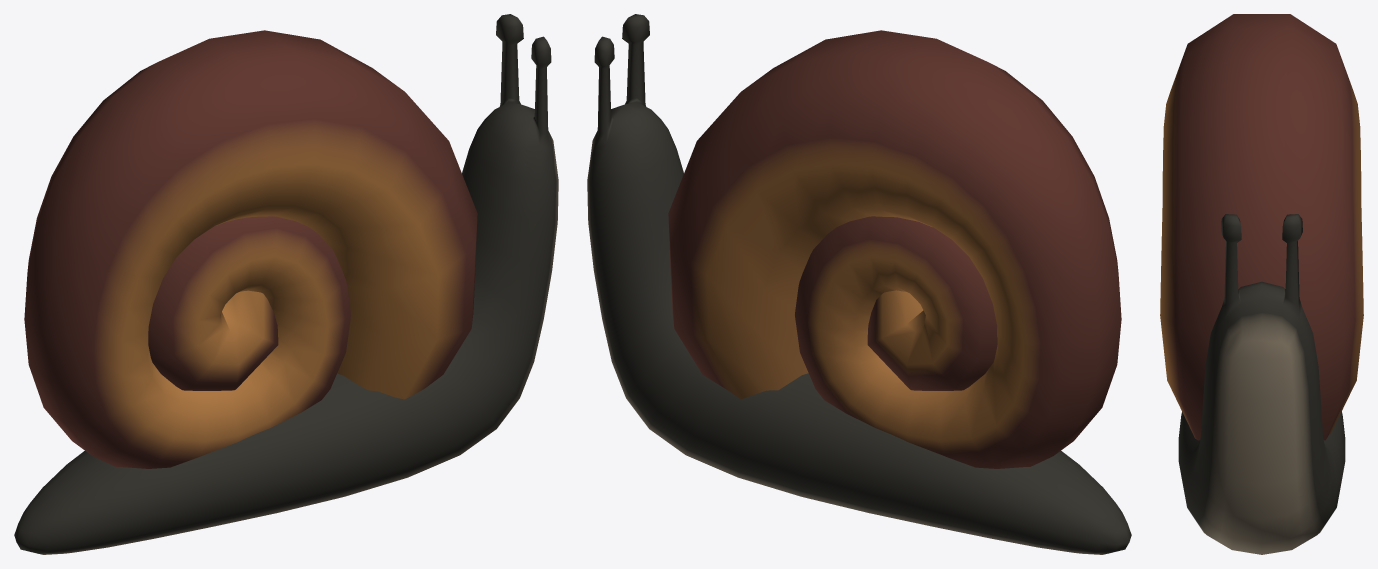
Rendered from item_slowmotion.fbx.
3 views of the same model, side by side, from view 1: azimuth 30°, elevation 25°; view 2: azimuth 150°, elevation 25°; view 3: azimuth 270°, elevation 25° (orthographic). The views are drawn at different scales.
Parts seen in each view (by area): view 1: item_slowmotion; view 2: item_slowmotion; view 3: item_slowmotion.
Boxes of the visible parts, bbox=[...] form: item_slowmotion: bbox=[14, 14, 558, 554]; item_slowmotion: bbox=[587, 14, 1131, 554]; item_slowmotion: bbox=[1160, 14, 1363, 554].
Size of the model in its own units: 1.84 by 1.53 by 0.6449.
